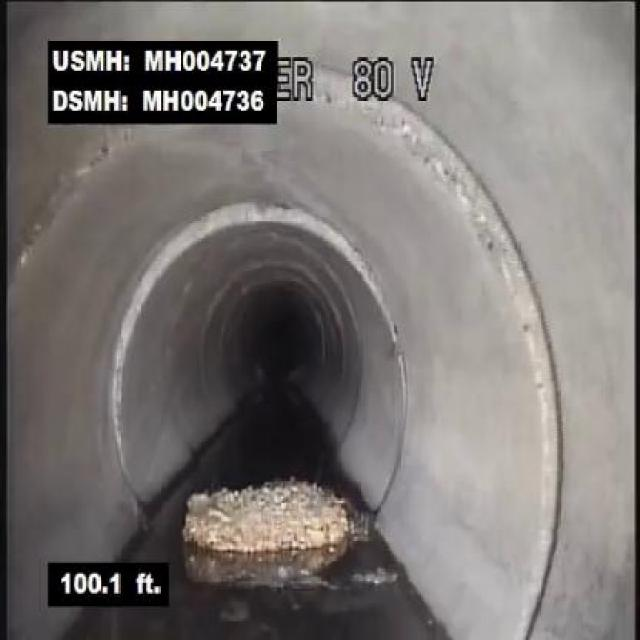Obstacle: (178, 469, 371, 591)
